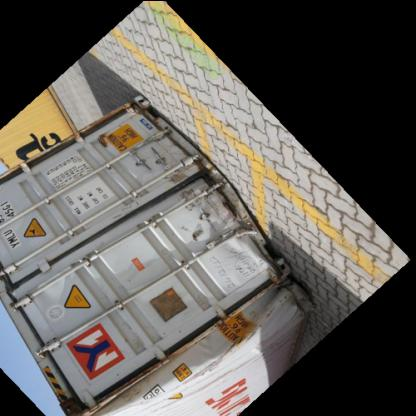Damage: (163, 283, 308, 367), (171, 159, 257, 255), (48, 374, 156, 415), (87, 128, 115, 156)
